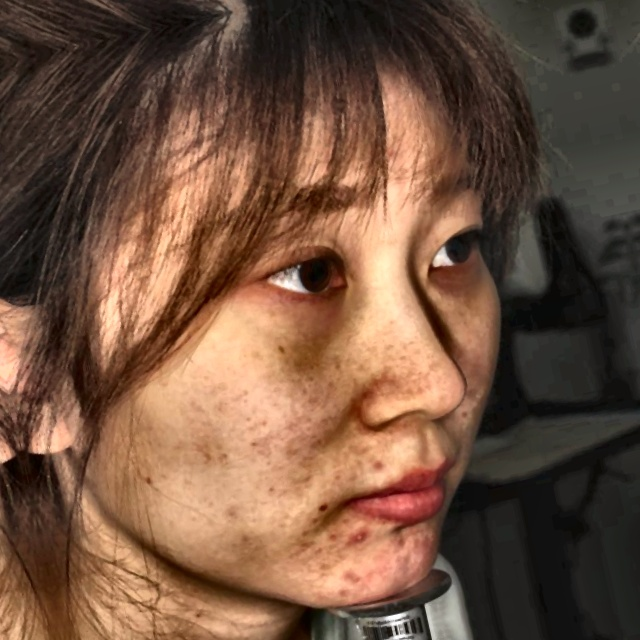comedone: (336, 525, 379, 553), (335, 561, 368, 591), (384, 531, 409, 556)
